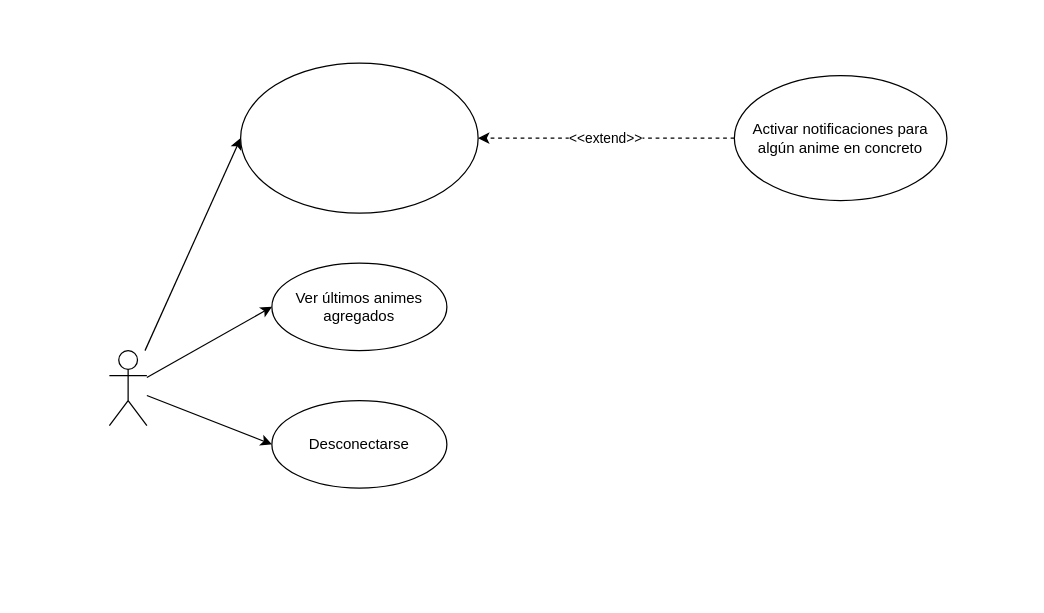
Image size: 1044x613. Some labels were removed from this diagram. The shapes that lost their labels are listed below. From the top down, each one's centre as x and y in pixels, then its label:
(x=358, y=137): Activar notificaciones para todos los animes
(x=127, y=387): usuario autentificado
